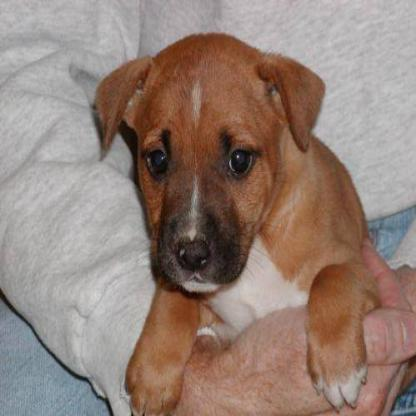dog: (71, 8, 327, 334)
